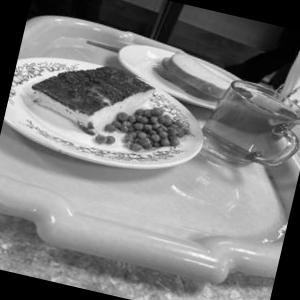bread: (154, 36, 246, 112)
casserole: (18, 30, 192, 160)
tea: (193, 62, 300, 191)
